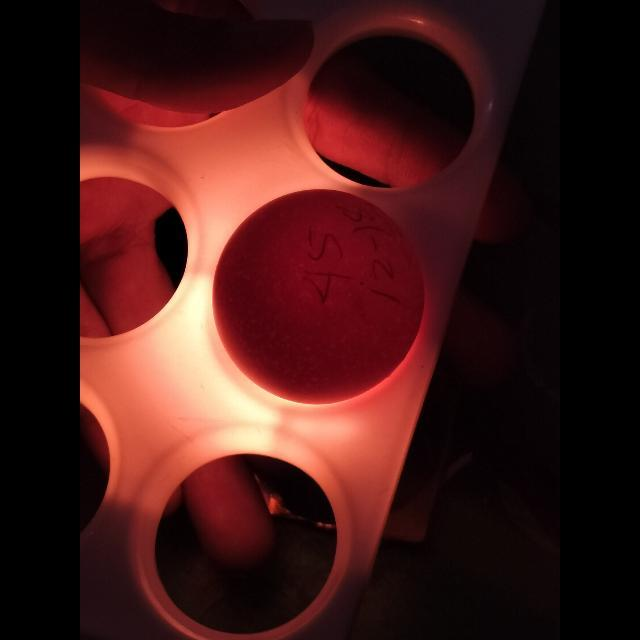Infertile: (215, 181, 422, 395)
